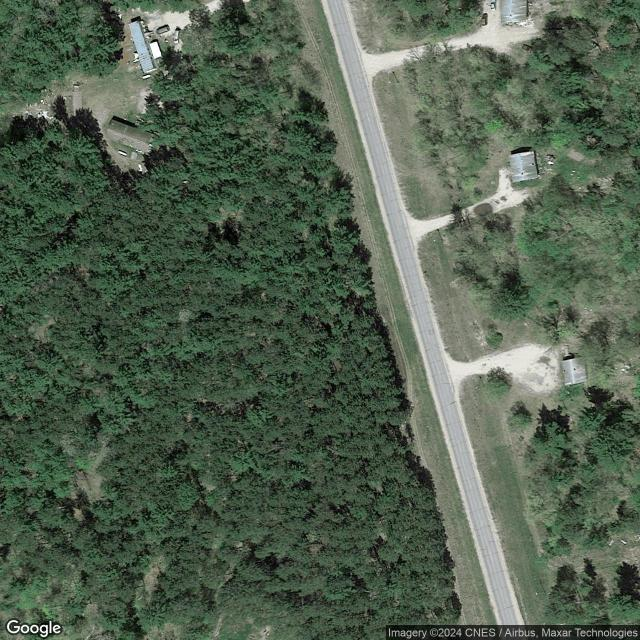Propane: (117, 149, 128, 157), (141, 73, 152, 80)
